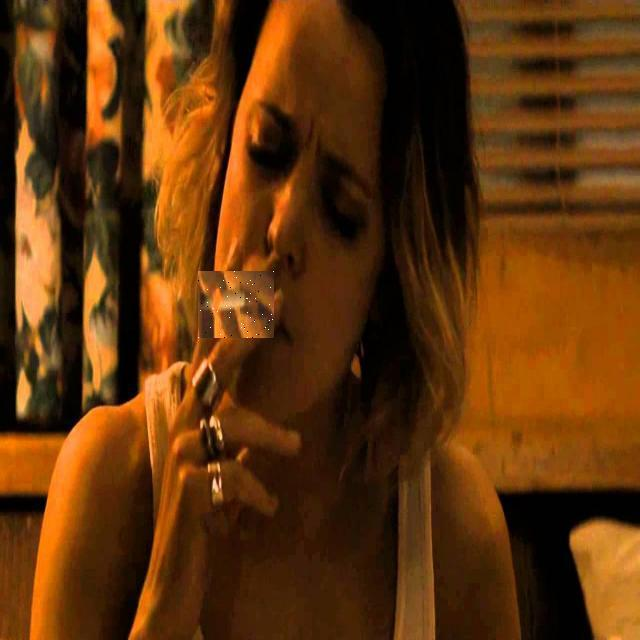smoking: (198, 271, 274, 338)
